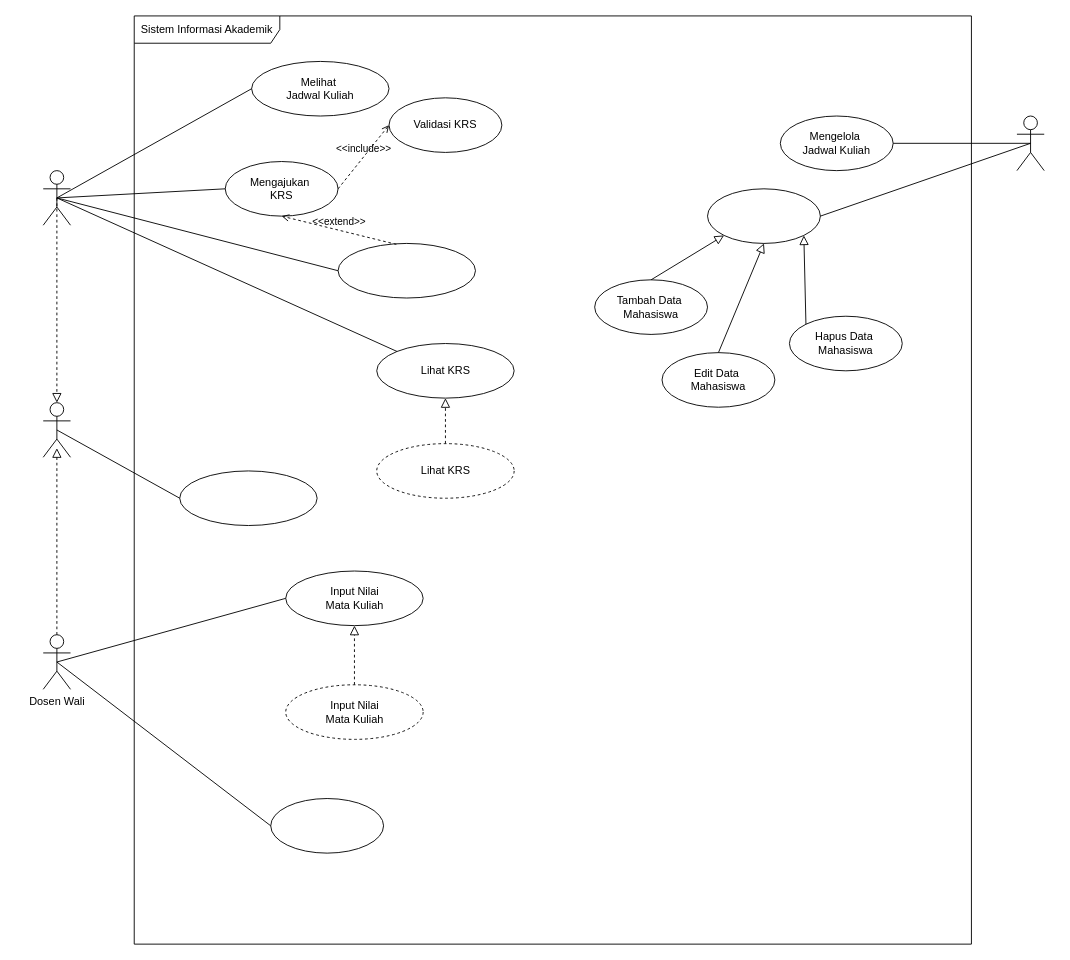
The diagram is 1070 pixels wide and 960 high, and some of its shapes have lost their labels. The shapes that lost their labels are listed below. From the top down, each one's centre as x and y in pixels, then its label:
At point 1030,143: "Admin Akademik".
At point 56,197: "Mahasiswa".
At point 763,215: "Kelola Data Mahasiswa".
At point 406,270: "Mengunduh Bukti Pengajuan".
At point 56,429: "Civitas Akademik".
At point 248,498: "Lihat Kalender Akademik".
At point 327,825: "Proses Keputusan KRS".
